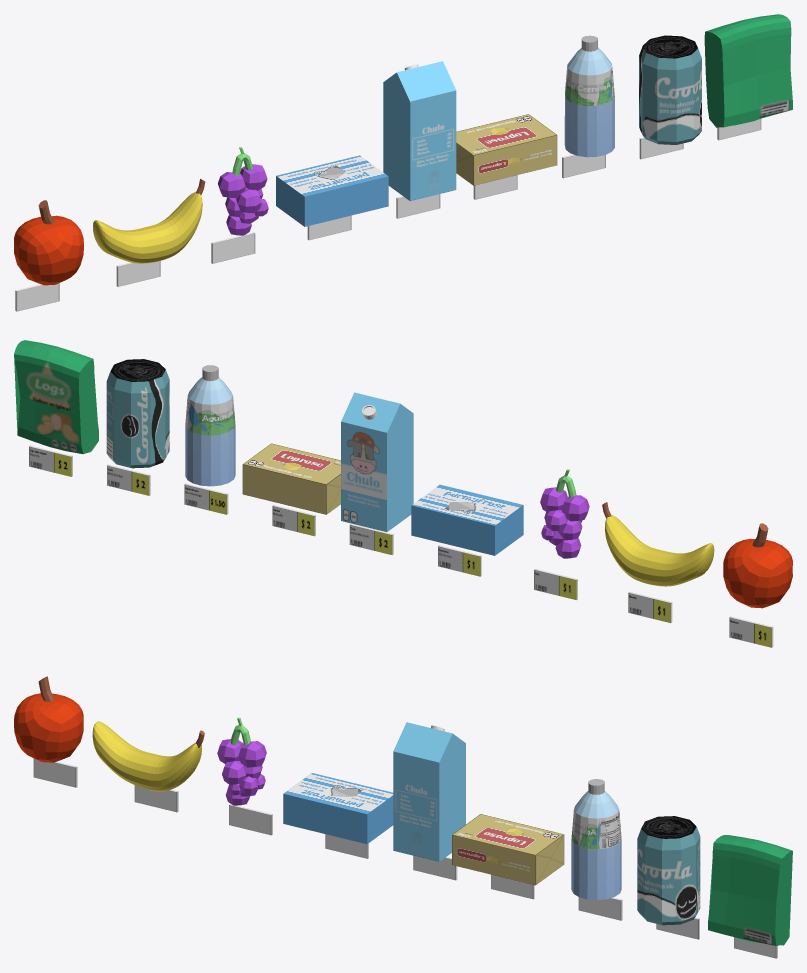
Rendered from ModelosMercadería.fbx.
3 views of the same model, one above another, from view 1: azimuth 30°, elevation 25°; view 2: azimuth 150°, elevation 25°; view 3: azimuth 330°, elevation 25° (orthographic).
Visible parts, largest first — view 1: Cube.171, Cube.053, Lata de bebida, Cube.181, Cube.161, Cylinder.038, Cylinder, Cube.210, Cube.213, Cube.219, Cube.221, Cube.220 (+6 smaller); view 2: Cube.171, Cube.053, Lata de bebida, Cube.181, Cube.161, Cylinder.038, Cylinder, Cube.210, Cube.213, Cube.211, Cube.221, Cube.217 (+6 smaller); view 3: Cube.171, Cube.053, Lata de bebida, Cube.161, Cube.181, Cylinder.038, Cylinder, Cube.210, Cube.213, Cube.219, Cube.221, Cube.220 (+6 smaller).
Boxes of the visible parts, box(x1,y1,x2,y2) form: Cube.171: box(383, 61, 456, 201); Cube.053: box(704, 14, 792, 127); Lata de bebida: box(639, 35, 701, 144); Cube.181: box(276, 155, 388, 226); Cube.161: box(456, 114, 557, 185); Cylinder.038: box(564, 35, 614, 157); Cylinder: box(14, 200, 83, 285); Cube.210: box(93, 179, 205, 263); Cube.213: box(218, 147, 268, 235); Cube.219: box(211, 232, 255, 263); Cube.221: box(15, 283, 59, 311); Cube.220: box(116, 261, 160, 286); Cube.171: box(341, 392, 413, 531); Cube.053: box(14, 340, 98, 454); Lata de bebida: box(106, 359, 169, 468); Cube.181: box(411, 484, 523, 555); Cube.161: box(242, 443, 340, 514); Cylinder.038: box(185, 365, 235, 486); Cylinder: box(723, 523, 792, 608); Cube.210: box(602, 502, 714, 586); Cube.213: box(540, 469, 589, 558); Cube.211: box(184, 483, 228, 514); Cube.221: box(729, 616, 773, 647); Cube.217: box(349, 524, 393, 554); Cube.171: box(393, 722, 465, 861); Cube.053: box(708, 835, 792, 945); Lata de bebida: box(637, 816, 700, 925); Cube.161: box(452, 814, 564, 885); Cube.181: box(283, 773, 393, 844); Cylinder.038: box(571, 779, 621, 900); Cylinder: box(14, 676, 83, 762); Cube.210: box(92, 721, 204, 791); Cube.213: box(217, 717, 266, 805); Cube.219: box(229, 804, 272, 835); Cube.221: box(33, 758, 77, 787); Cube.220: box(134, 785, 178, 812).
Bounding box in the file's own units: 723 × 134 × 58.54.
Materials: 21 (15 with a texture image).
